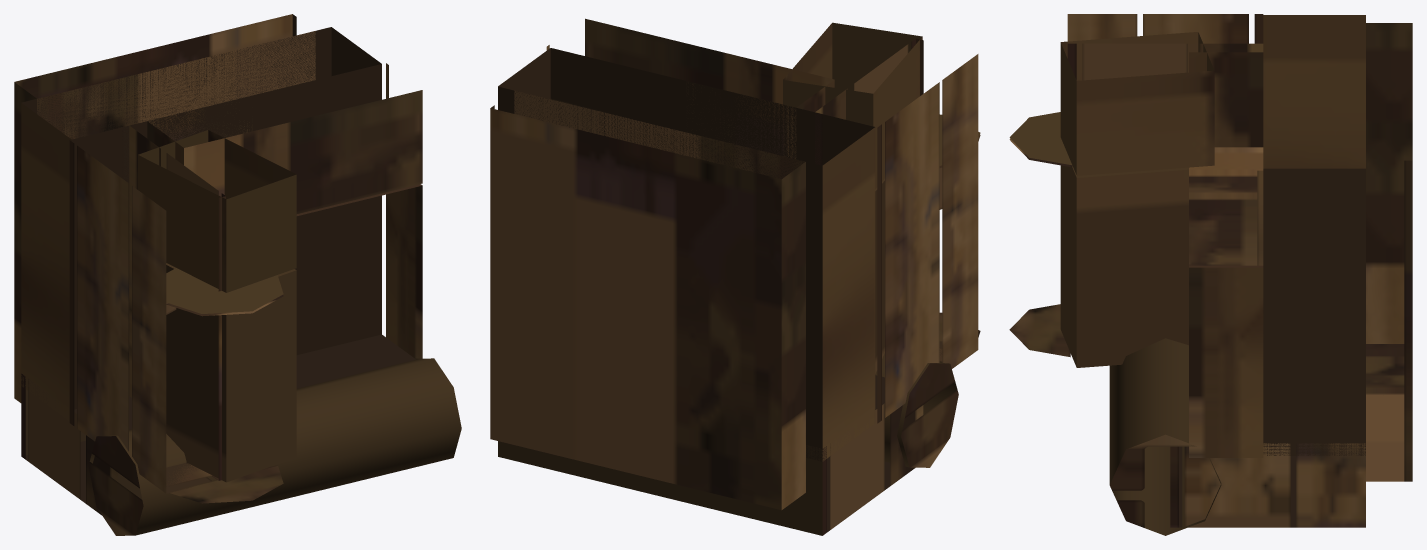
File: section-3.obj
3 renders of one model, left to right at view 1: azimuth 30°, elevation 25°; view 2: azimuth 150°, elevation 25°; view 3: azimuth 270°, elevation 25°, orthographic. The views are drawn at different scales.
Size of the model in its own units: 0.8 by 0.865 by 0.865.
